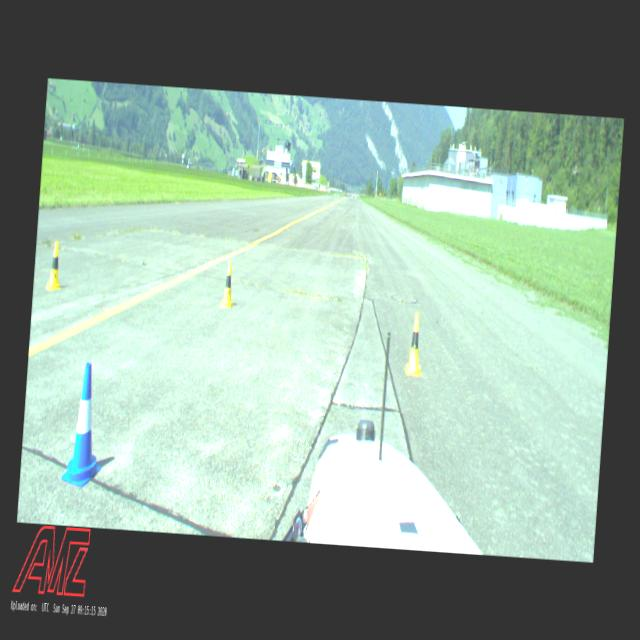blue_cone: (60, 362, 108, 488)
yellow_cone: (404, 311, 425, 376), (46, 240, 64, 290), (220, 260, 236, 307)
